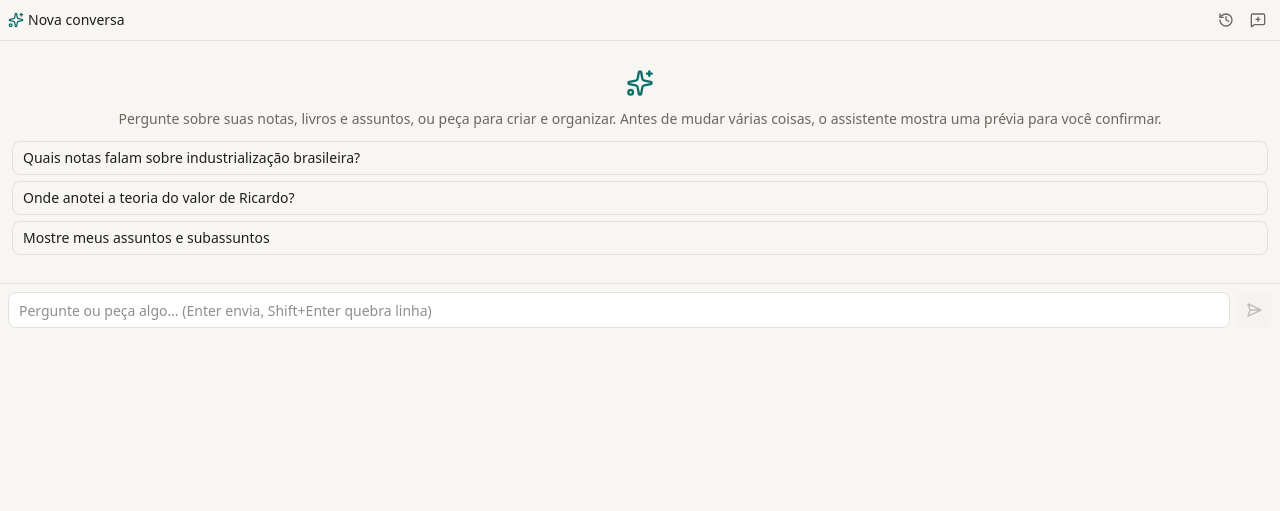
Test: assistant chat › runs a proposal only when the user confirms it
This screenshot has width=1280, height=511.
Replace the text in the text box named "Mensagem para o assistente" with "Crie Economia Clássica com Adam Smith e David Ricardo" at coordinates (619, 310), box [8, 292, 1230, 328]
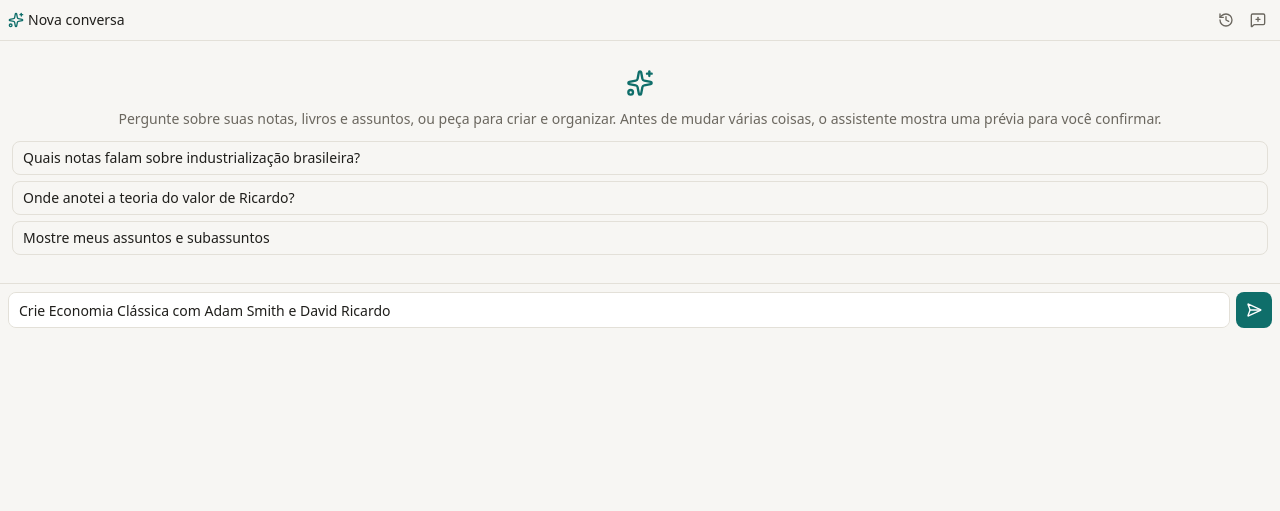
Press Enter in the text box named "Mensagem para o assistente", box [8, 292, 1230, 328]
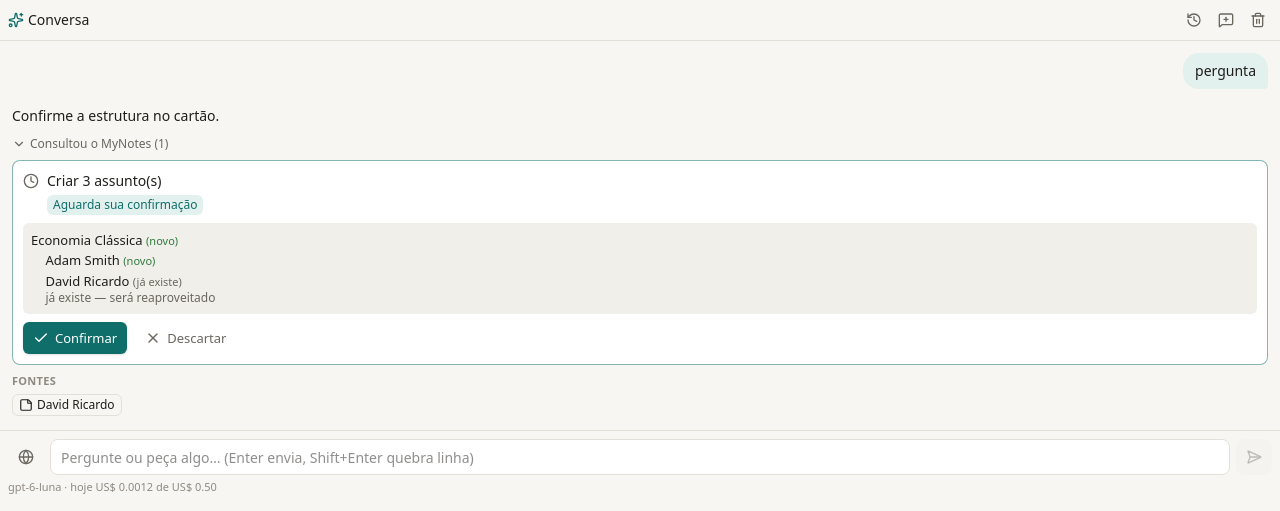
Expected: the text "Aguarda sua confirmação" is shown, [47, 195, 204, 215]
Expected: the text "Adam Smith" is shown, [45, 251, 120, 269]
Expected: the text "(já existe)" is shown, [133, 274, 182, 289]
Click the button "Confirmar" at coordinates (75, 338), box [23, 322, 127, 354]
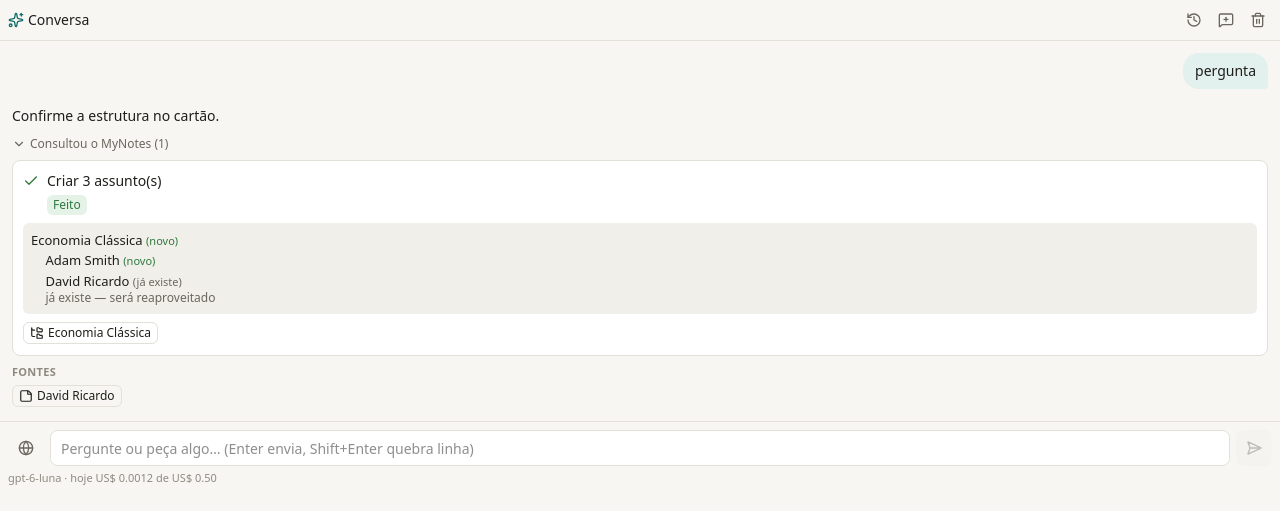
Expected: the text "Feito" is shown, [47, 195, 87, 215]
Expected: the button "Confirmar" is gone
Expected: the link "Economia Clássica" is shown, [23, 322, 158, 344]
